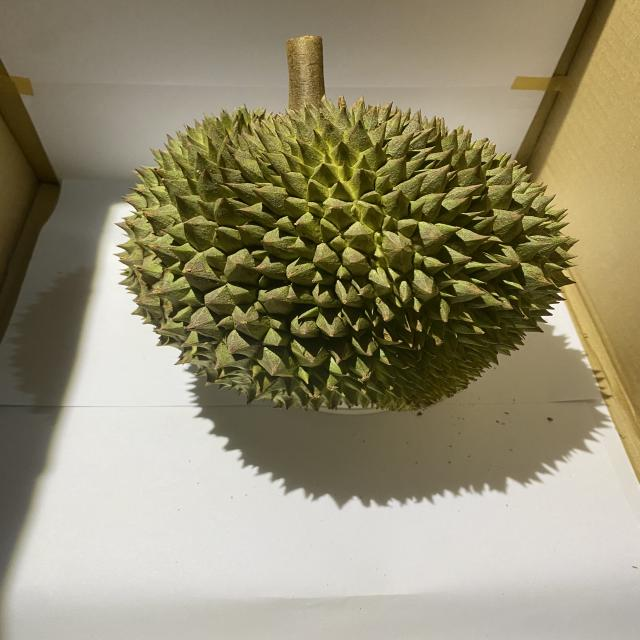immature: (113, 96, 584, 418)
